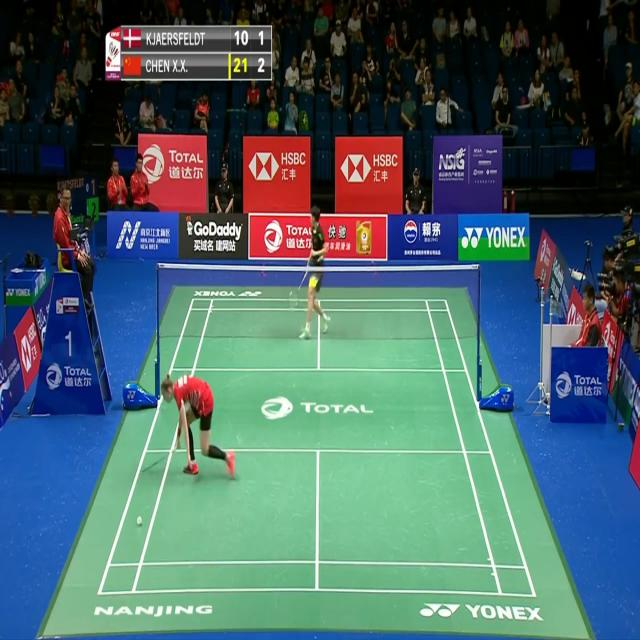Player1: (156, 368, 237, 484)
Player2: (292, 205, 334, 345)
